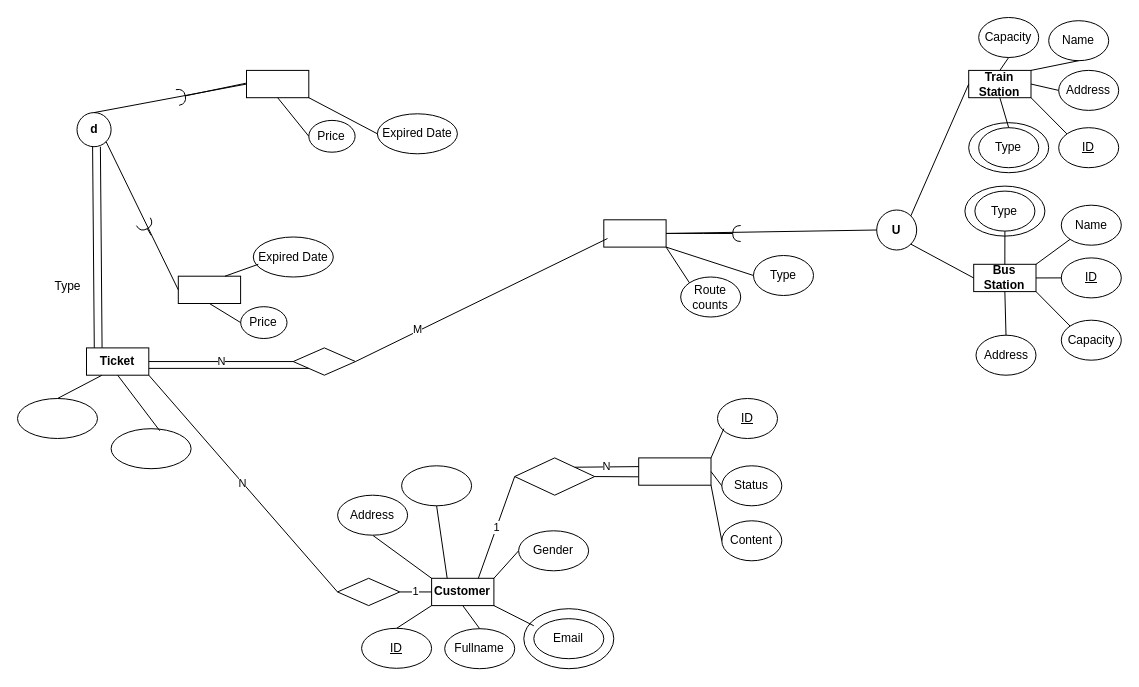
Image size: 1139x687. Some labels were removed from this diagram. The centre of each missing label's shape, as x and y in pixels:
Buy: (368,591)
Buy at: (324,361)
Date of Birth: (436,485)
Day: (277,83)
Feedback: (554,476)
Feedback Form: (674,471)
Month: (209,289)
Published Date: (57,418)
Station: (634,233)
Ticket ID: (150,448)
